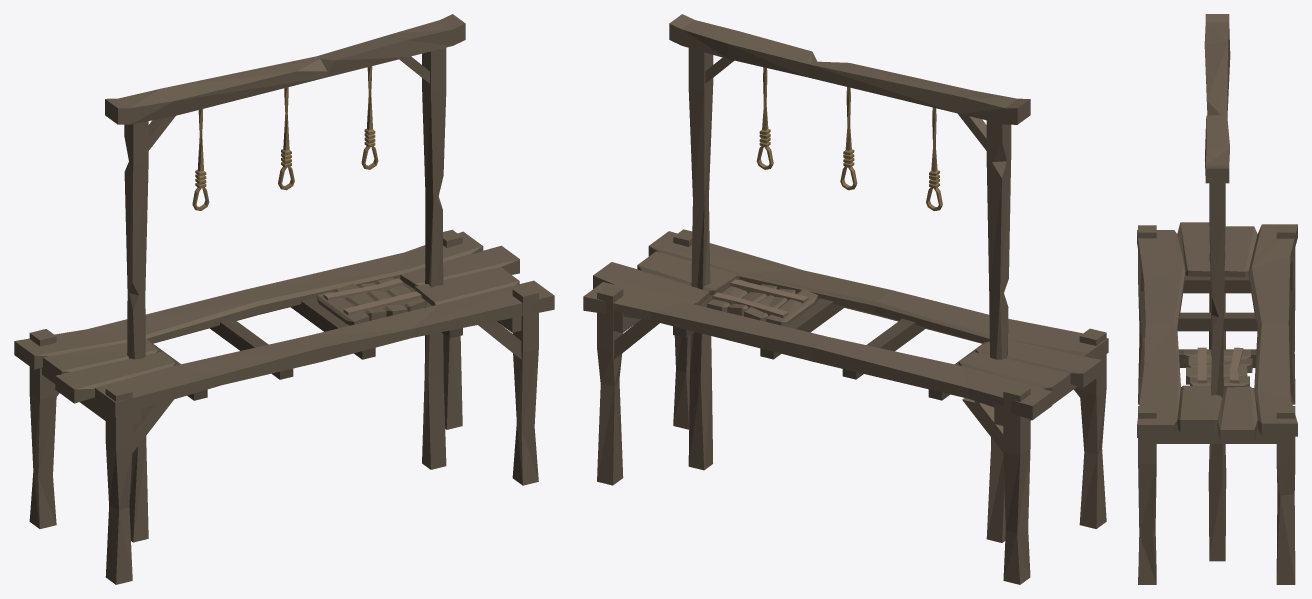
File: SM_Prop_Gallows_Trapdoor_03.glb
3 renders of one model, left to right at view 1: azimuth 30°, elevation 25°; view 2: azimuth 150°, elevation 25°; view 3: azimuth 270°, elevation 25°, orthographic. The views are drawn at different scales.
Visible parts, largest first — view 1: SM_Prop_Gallows_Trapdoor_03_part00, SM_Prop_Gallows_Trapdoor_03_part01; view 2: SM_Prop_Gallows_Trapdoor_03_part00, SM_Prop_Gallows_Trapdoor_03_part01; view 3: SM_Prop_Gallows_Trapdoor_03_part00, SM_Prop_Gallows_Trapdoor_03_part01.
Boxes of the visible parts, x1,y1,x2,y2 form: SM_Prop_Gallows_Trapdoor_03_part00: [14, 14, 554, 584]; SM_Prop_Gallows_Trapdoor_03_part01: [317, 277, 425, 325]; SM_Prop_Gallows_Trapdoor_03_part00: [583, 14, 1108, 584]; SM_Prop_Gallows_Trapdoor_03_part01: [707, 279, 818, 326]; SM_Prop_Gallows_Trapdoor_03_part00: [1137, 14, 1297, 584]; SM_Prop_Gallows_Trapdoor_03_part01: [1183, 347, 1252, 388].
Bounding box in the file's own units: 6.04 × 5.43 × 1.98.
1 material, 1 textured.
